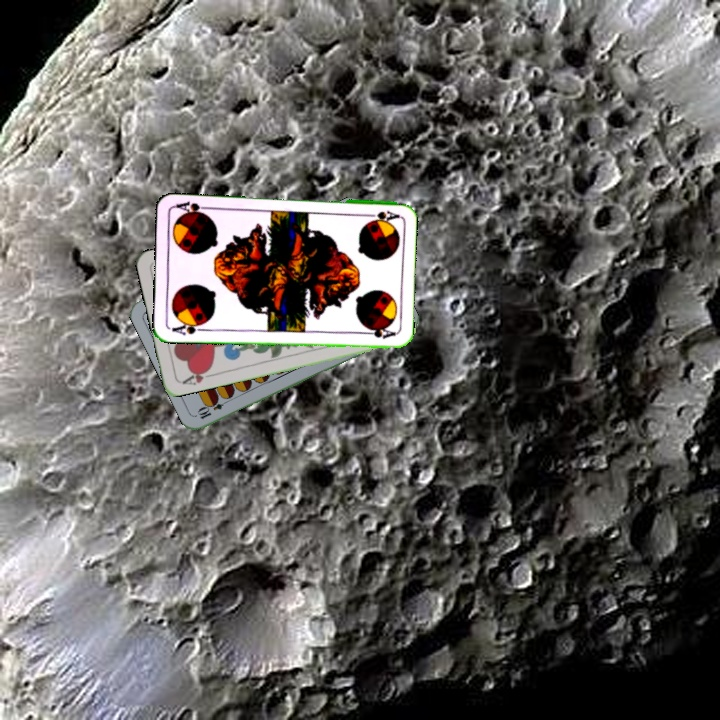E10: (194, 394, 232, 422)
HA: (178, 363, 218, 388)
SA: (168, 318, 209, 337), (360, 206, 400, 223)
